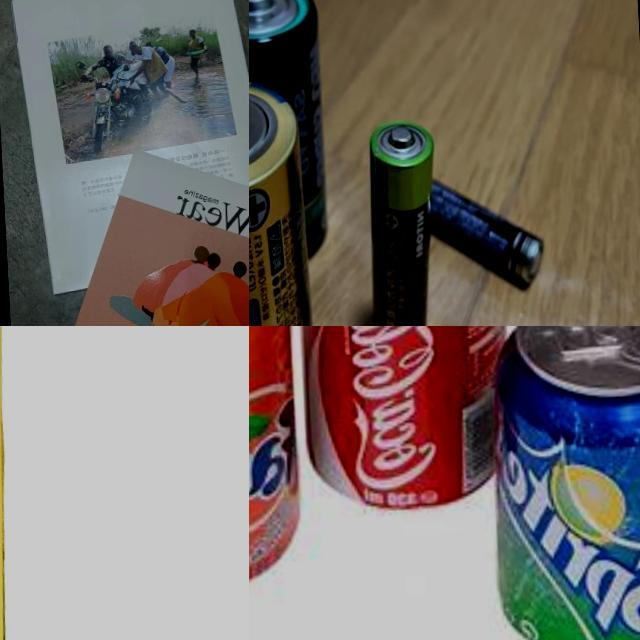aba de lata: (555, 326, 638, 361)
bateria: (249, 0, 335, 262), (249, 73, 326, 326), (360, 116, 448, 326), (411, 172, 548, 290)
lata: (481, 326, 640, 640), (291, 326, 525, 512)
papel: (0, 0, 249, 326)
